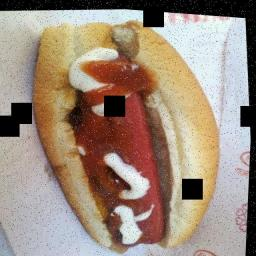hotdog: (132, 62, 176, 250), (106, 80, 148, 183)
